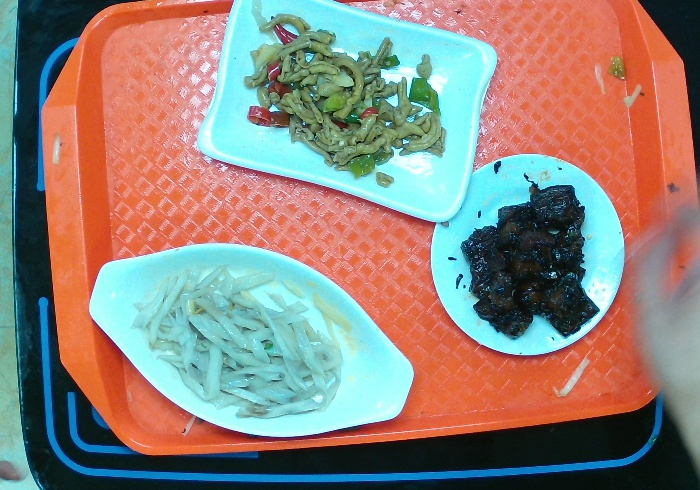RJxy-Si_Fang_Ao_Bian_Wan: (194, 1, 502, 233)
RJxy-Xiao_Yuan_Die: (423, 148, 636, 361)
RJxy-Yu_Pan: (84, 239, 416, 439)
